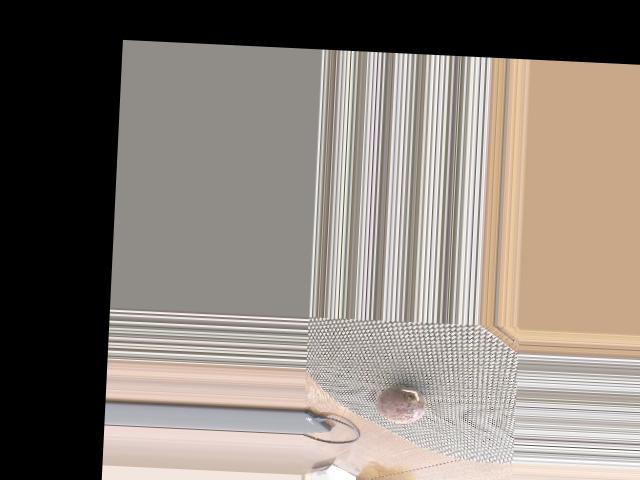beet: (375, 384, 425, 424)
